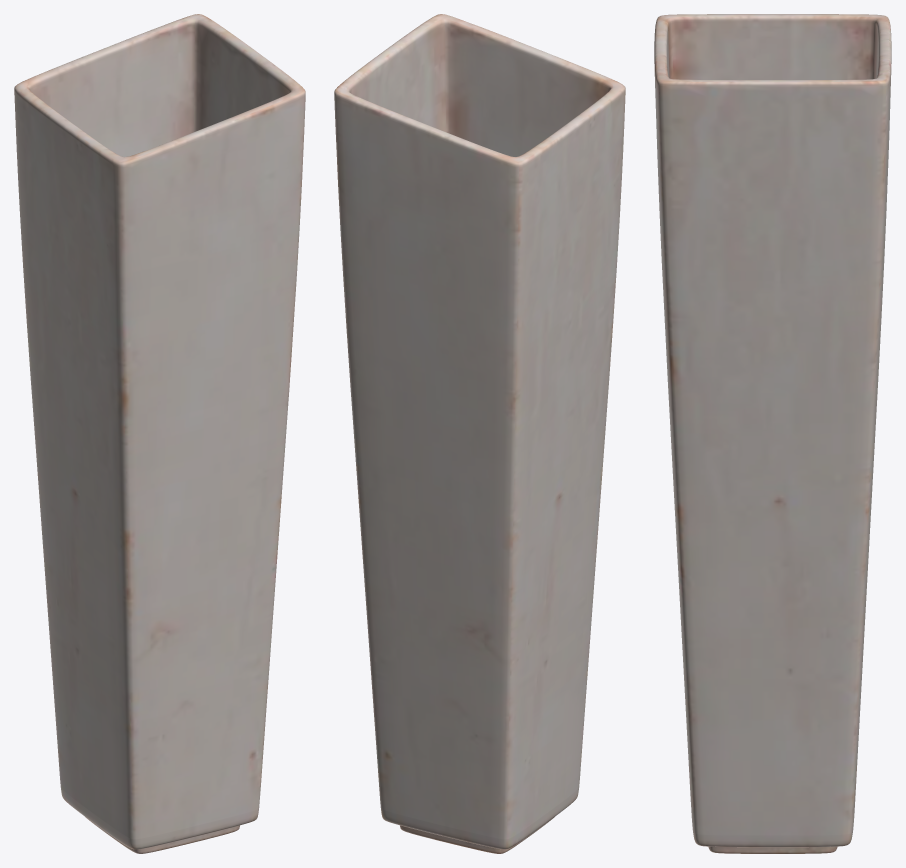
The model's file is ceramic_vase_03.glb.
The picture shows the model from 3 angles, left to right: view 1: azimuth 30°, elevation 25°; view 2: azimuth 150°, elevation 25°; view 3: azimuth 270°, elevation 25°; orthographic projection. The views are drawn at different scales.
Visible parts, largest first — view 1: ceramic_vase_03; view 2: ceramic_vase_03; view 3: ceramic_vase_03.
Part boxes in pixels (x1,y1,x2,y2): ceramic_vase_03: (14, 14, 305, 853); ceramic_vase_03: (334, 14, 625, 853); ceramic_vase_03: (654, 14, 891, 853).
Size of the model in its own units: 0.1123 by 0.4144 by 0.1123.
1 material, 1 textured.
